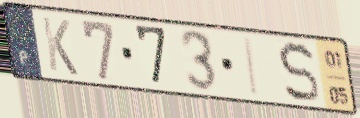3: (180, 27, 218, 96)
7: (78, 17, 117, 83), (132, 22, 169, 89)
I: (242, 35, 261, 99)
K: (39, 14, 81, 79)
S: (276, 40, 323, 106)
